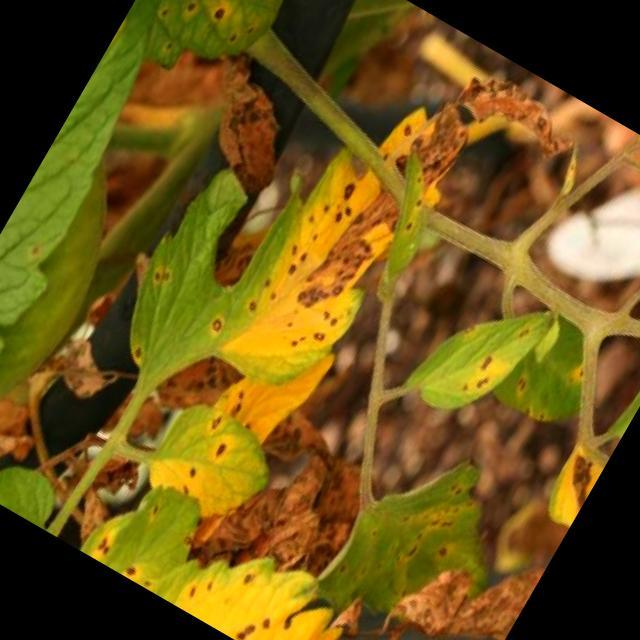Tomato Septoria spot leaf: (84, 0, 584, 522), (71, 450, 399, 640), (301, 422, 539, 640), (122, 376, 295, 554), (399, 262, 563, 444), (110, 0, 316, 108)
